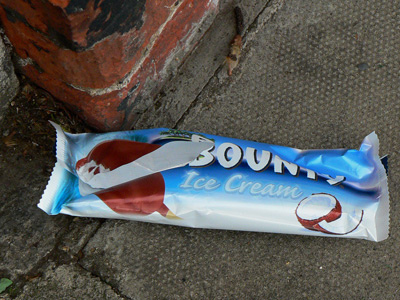litter: (35, 121, 391, 242)
